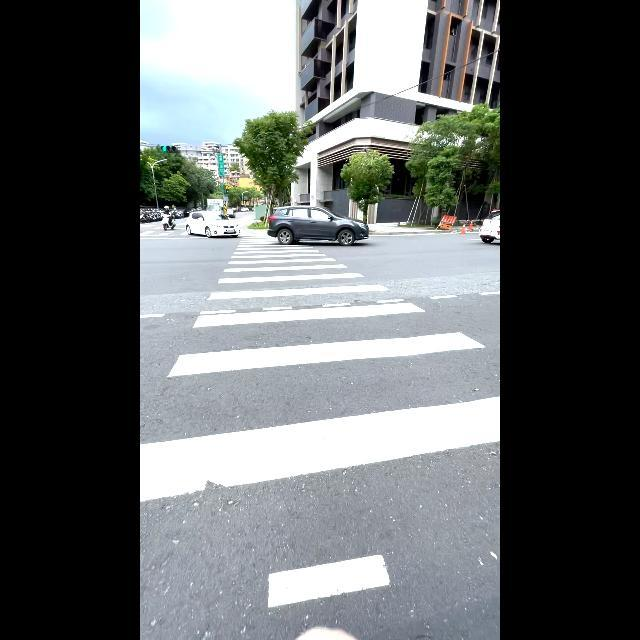sidewalk: (140, 229, 500, 640)
